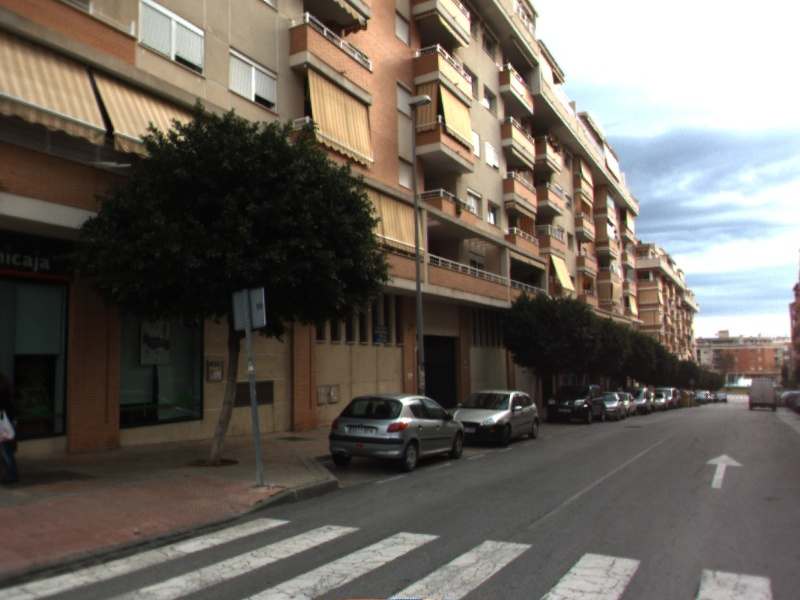STRAIGHT: (703, 452, 745, 490)
